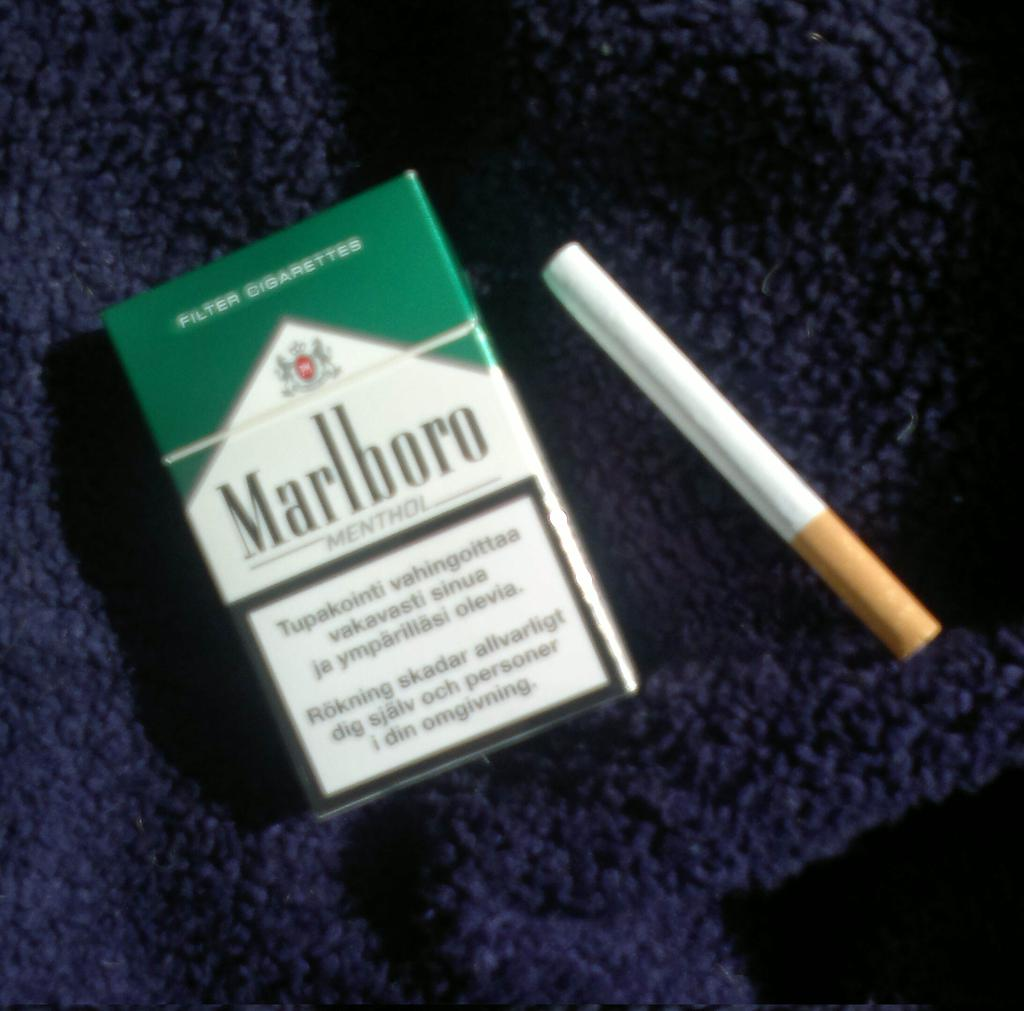marlboro_mentol: (185, 252, 502, 726)
